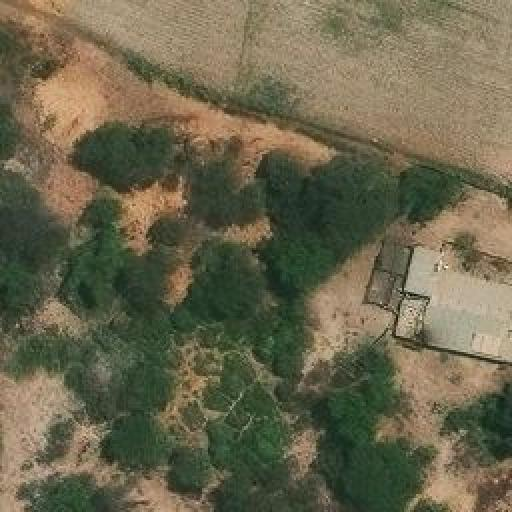manzanas: (353, 224, 510, 369)
